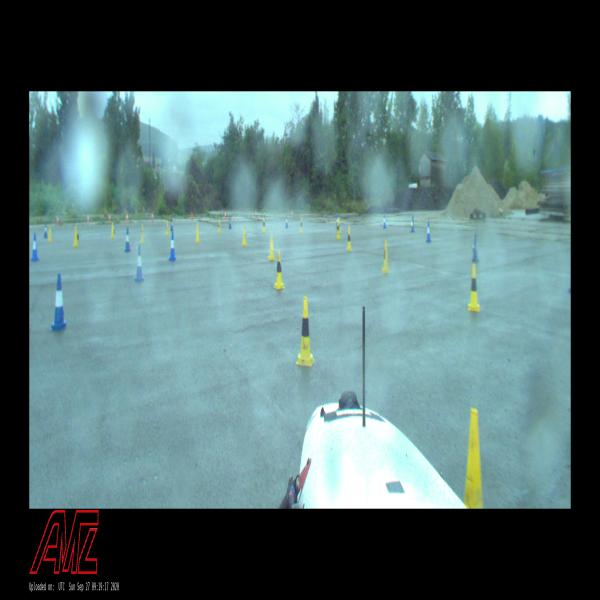blue_cone: (50, 273, 68, 331), (133, 244, 144, 282), (30, 232, 40, 261), (471, 234, 480, 262), (169, 232, 176, 261), (124, 228, 131, 252), (426, 220, 431, 242), (410, 216, 415, 232), (44, 224, 48, 238), (228, 217, 232, 229), (170, 220, 174, 231), (383, 215, 386, 228), (285, 215, 288, 228), (336, 215, 338, 228)
orange_cone: (86, 214, 90, 223), (126, 212, 129, 222), (108, 214, 111, 222), (255, 210, 257, 219), (152, 213, 153, 221)
yellow_cone: (464, 408, 484, 508), (296, 296, 314, 367), (467, 263, 480, 311), (274, 250, 286, 291), (382, 240, 390, 273), (268, 232, 275, 260), (346, 226, 352, 251), (73, 225, 78, 246), (195, 223, 200, 243), (242, 225, 247, 245), (336, 218, 340, 240), (110, 222, 114, 238), (48, 226, 52, 241), (165, 220, 169, 235), (141, 224, 144, 243), (262, 218, 266, 232), (300, 217, 303, 234), (218, 219, 221, 233)
